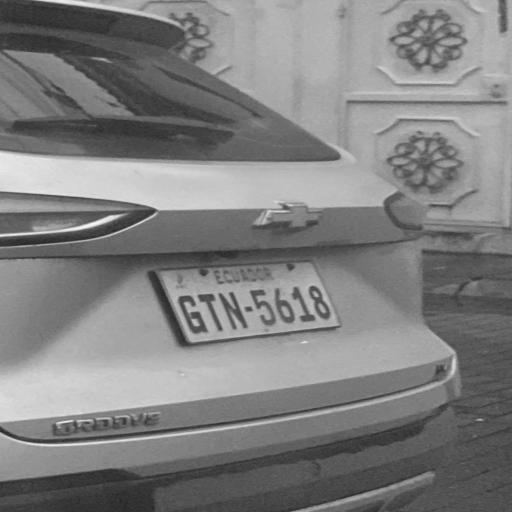license_plate: (160, 262, 340, 343)
